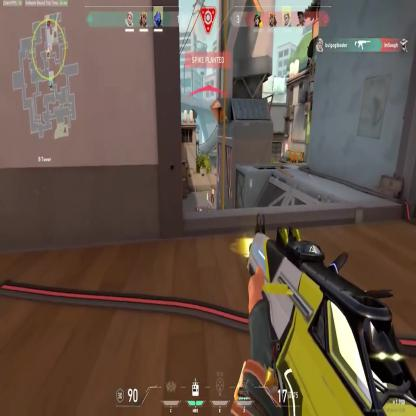enemy: (210, 189, 214, 206)
enemy_head: (213, 188, 214, 192)
